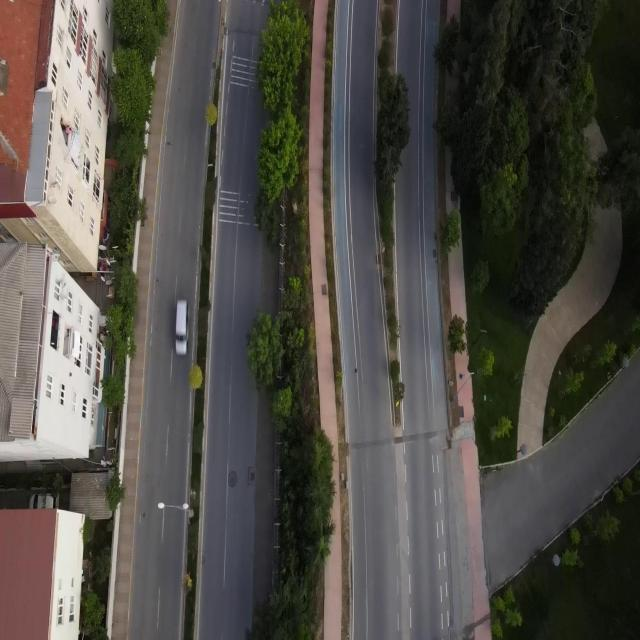p3rson: (65, 126, 73, 135)
